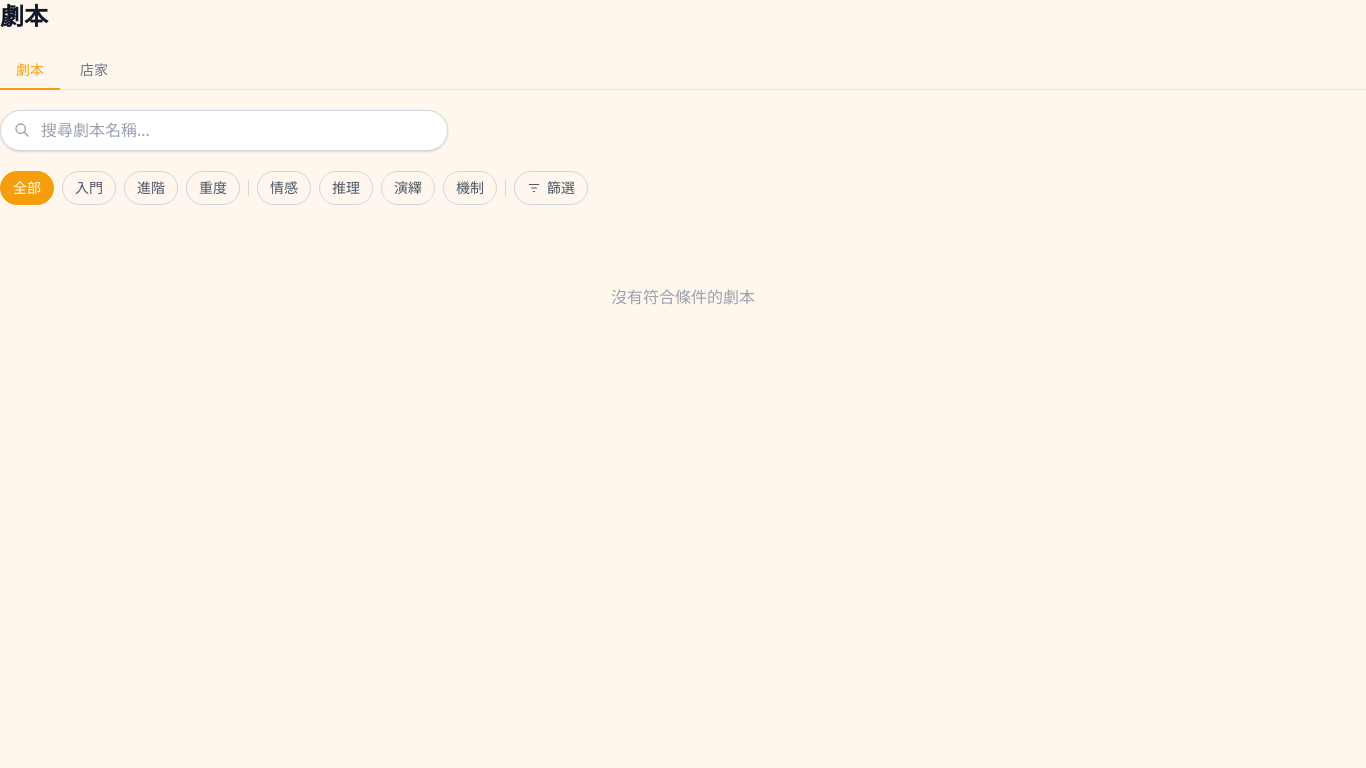
Test: ScriptsPage – filter drawer › opens drawer when 篩選 clicked
Click the button "篩選": (551, 188) [514,171,588,205]
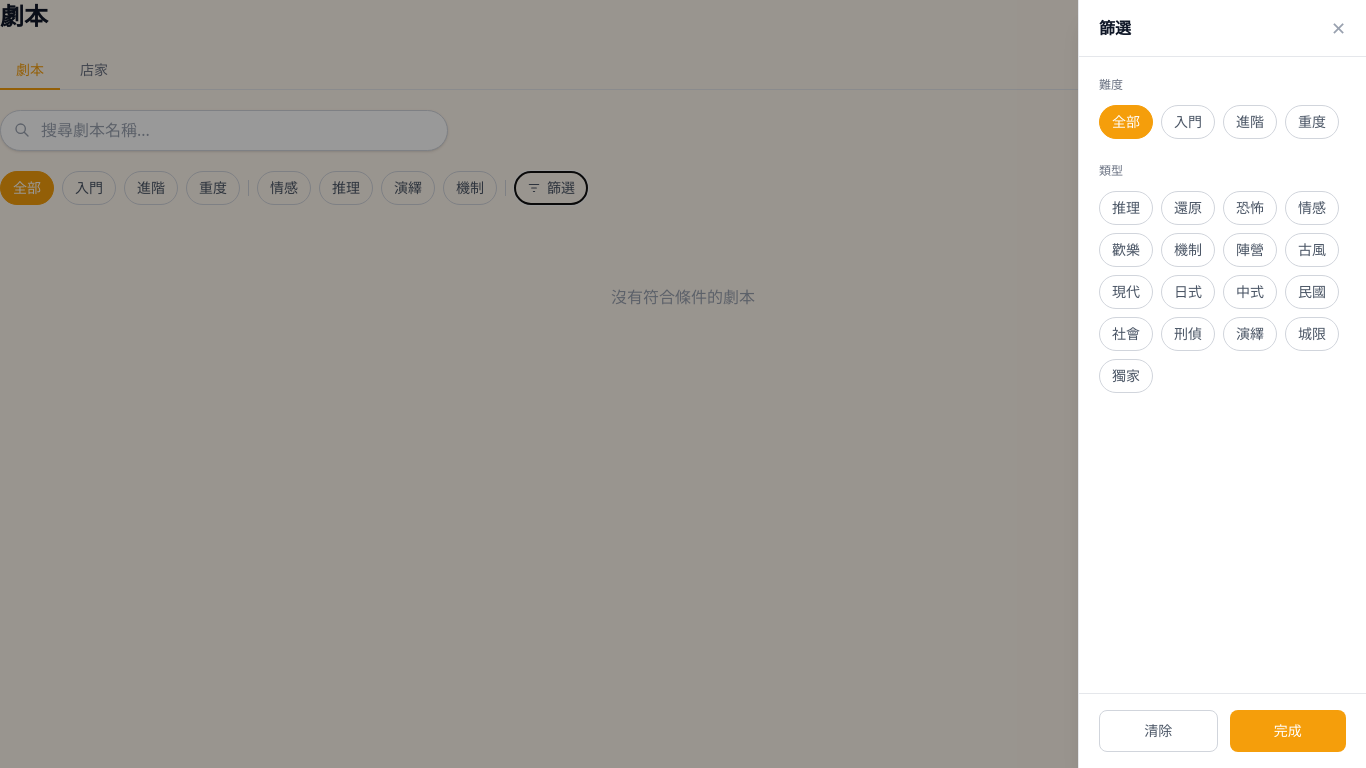
Check: the button "完成" is shown, box [1230,710,1346,752]
